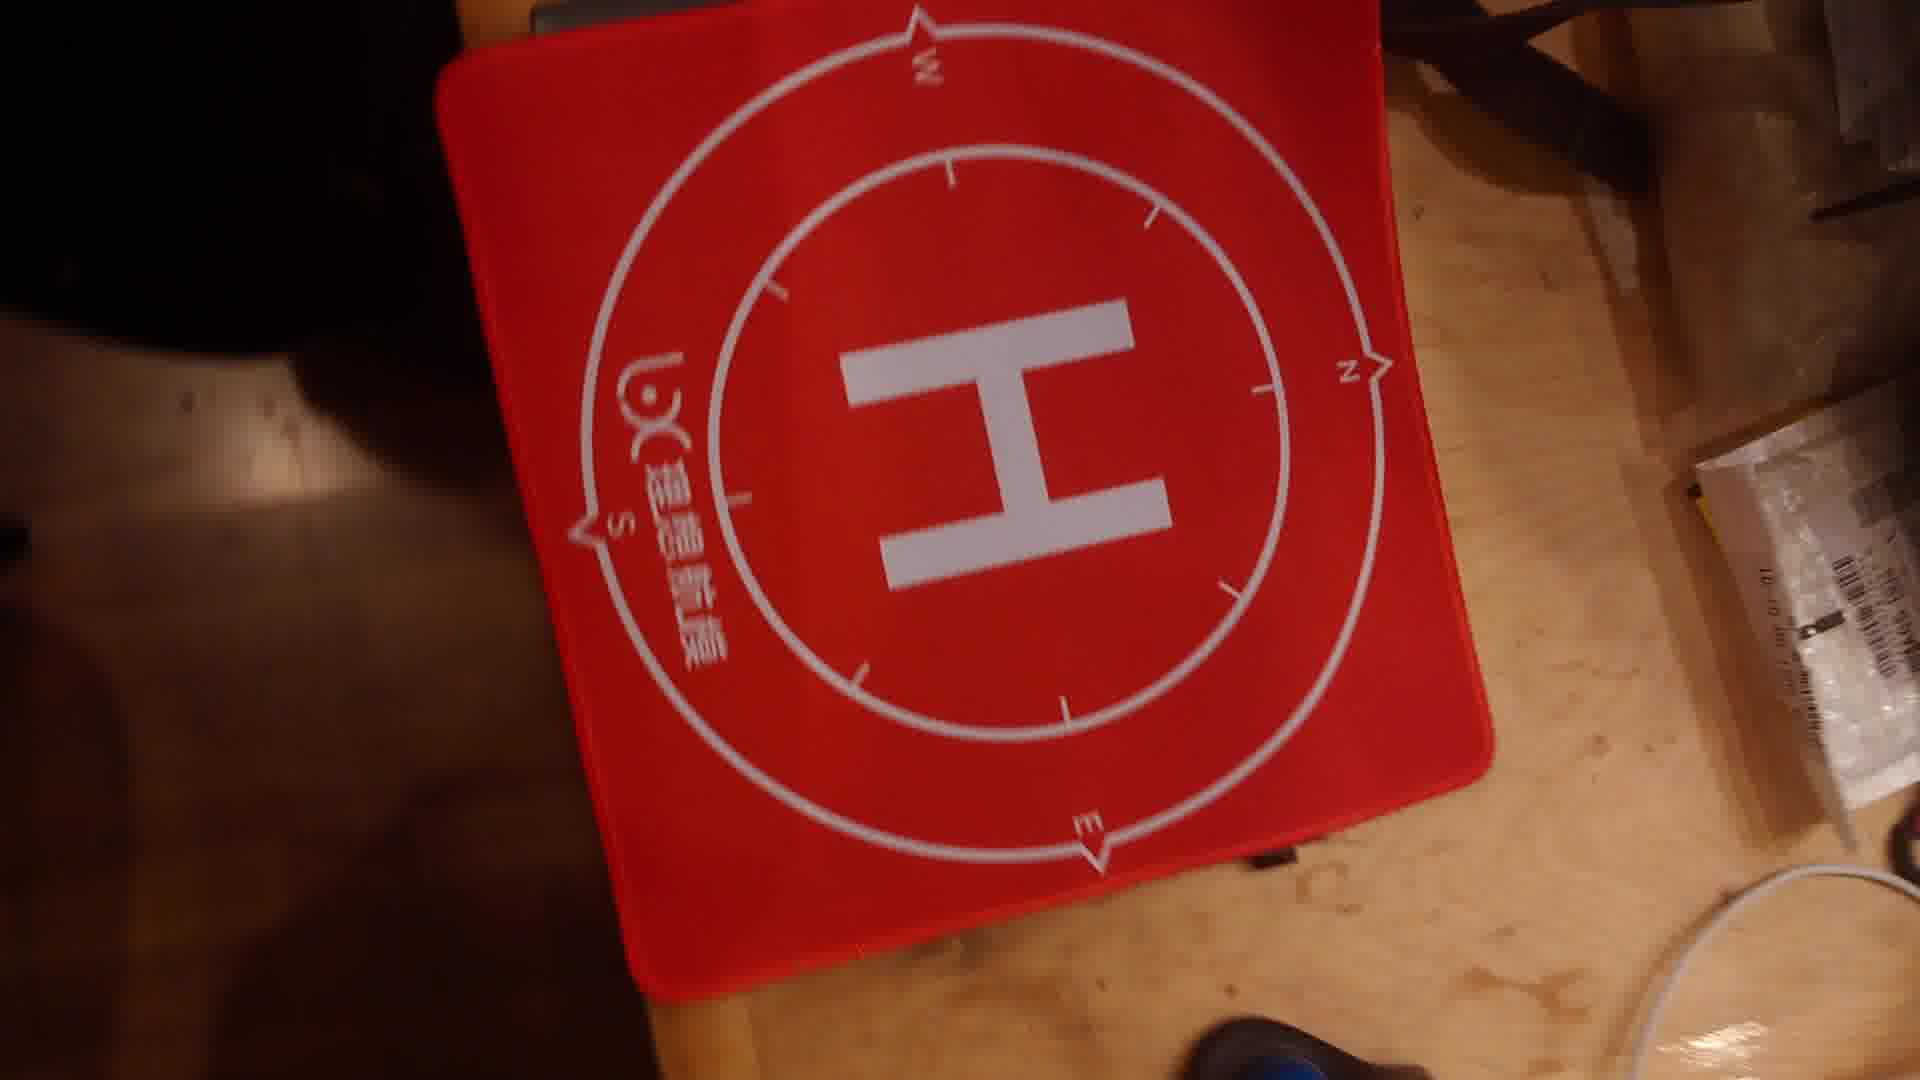H: (833, 298, 1174, 589)
